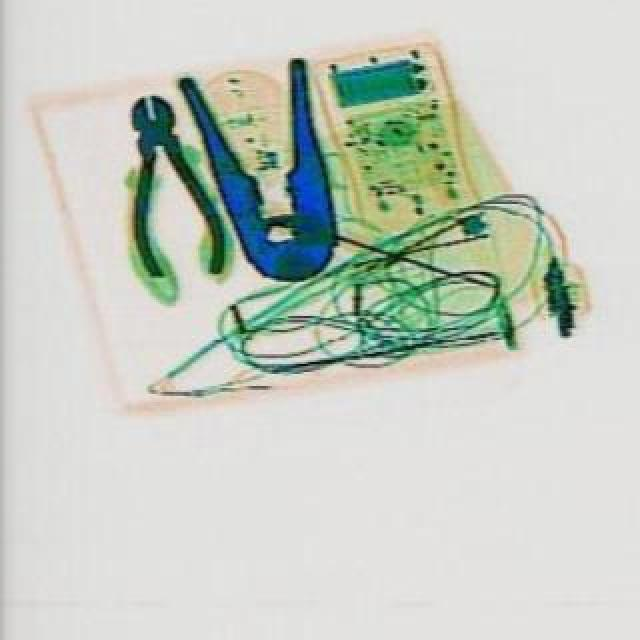wrench: (176, 50, 360, 294), (100, 84, 228, 284)
